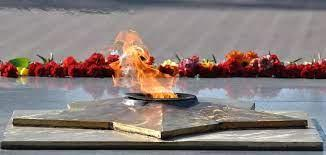fire: (81, 20, 212, 117)
